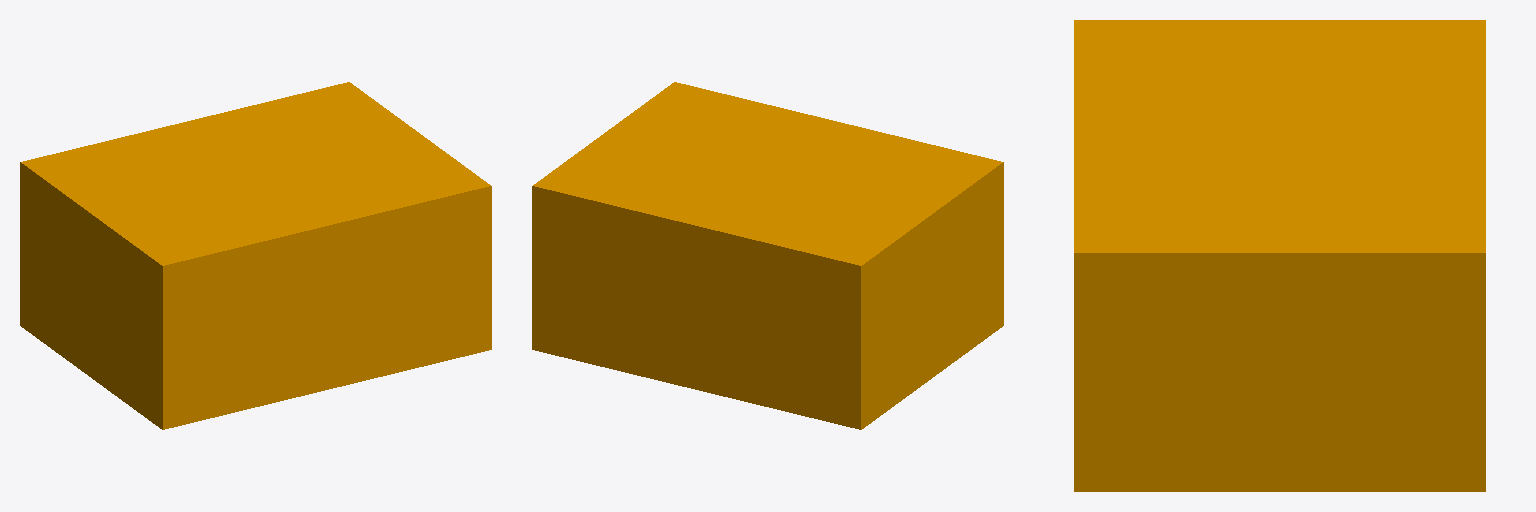
robot.urdf — object:
<?xml version="1.0"?>
<!-- Auto-generated by tools/gen_primitive_objects.py. kind=box dims=(0.096454, 0.072173, 0.045968) -->
<robot name="object">
  <link name="object">
    <visual>
      <origin xyz="0 0 0"/>
      <geometry>
        <box size="0.096454 0.072173 0.045968"/>
      </geometry>
    </visual>
    <collision>
      <origin xyz="0 0 0"/>
      <geometry>
        <box size="0.096454 0.072173 0.045968"/>
      </geometry>
    </collision>
    <inertial>
      <mass value="0.064000"/>
      <inertia ixx="0.00003905" ixy="0.0" ixz="0.0" iyy="0.00006089" iyz="0.0" izz="0.00007740"/>
    </inertial>
  </link>
</robot>

--- Facts derived from the render (not from the file) ---
Views: 3 orthographic renders of the robot side by side, from view 1: azimuth 30°, elevation 25°; view 2: azimuth 150°, elevation 25°; view 3: azimuth 270°, elevation 25°.
Robot: object — 1 links, 0 joints (none); root link object; default pose: every joint at zero.
Visible links, largest first — view 1: object; view 2: object; view 3: object.
Link boxes in pixels (x1=…): object: x1=20, y1=82, x2=491, y2=429; object: x1=532, y1=82, x2=1003, y2=429; object: x1=1074, y1=20, x2=1485, y2=491.
Bounding box of the posed robot: 0.0965 × 0.0722 × 0.046 m (x, y, z).
Geometry: primitives only (box / cylinder / sphere), no mesh files.
